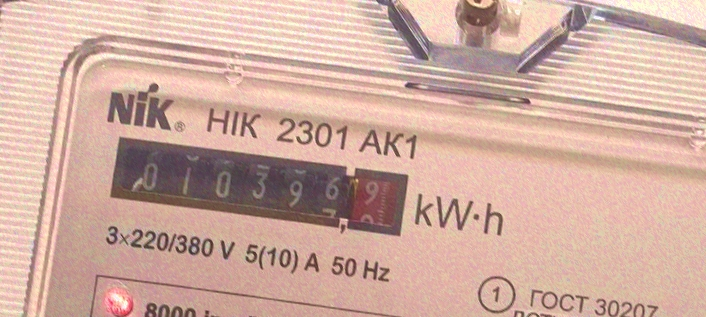0: (207, 166, 233, 201), (135, 158, 158, 193)
1: (176, 162, 192, 197)
3: (246, 168, 268, 203)
6: (318, 172, 342, 203)
9: (280, 176, 303, 211), (355, 178, 380, 210)
screen: (91, 123, 418, 251)
